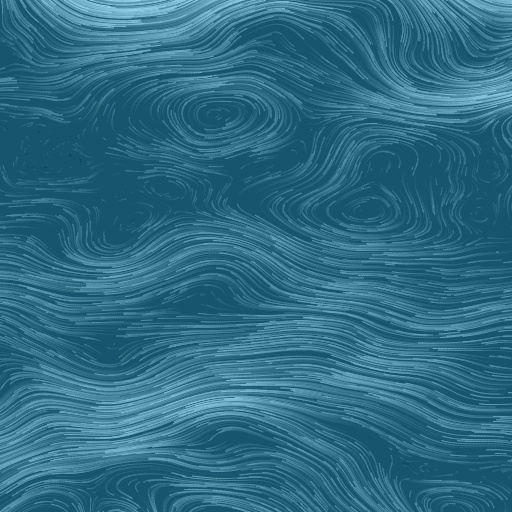eddy: (172, 85, 275, 145), (326, 184, 408, 236), (139, 170, 191, 208)
